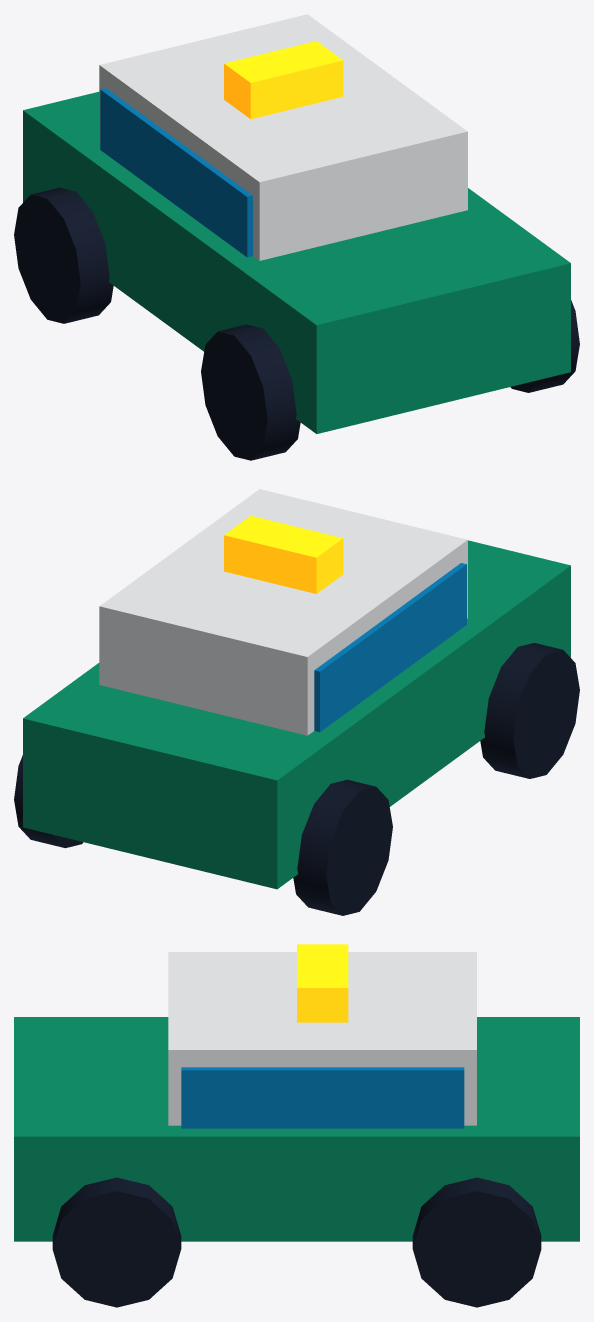
Rendered from vehicle_taxi.glb.
3 renders of one model, top to bottom at view 1: azimuth 30°, elevation 25°; view 2: azimuth 150°, elevation 25°; view 3: azimuth 270°, elevation 25°, orthographic. The views are drawn at different scales.
Parts seen in each view (by area): view 1: Vehicle_Taxi; view 2: Vehicle_Taxi; view 3: Vehicle_Taxi.
Boxes of the visible parts, left/top/right/bottom form: Vehicle_Taxi: left=14, top=14, right=579, bottom=460; Vehicle_Taxi: left=14, top=489, right=579, bottom=915; Vehicle_Taxi: left=14, top=944, right=579, bottom=1307.
Size of the model in its own units: 0.27 by 0.23 by 0.44.
